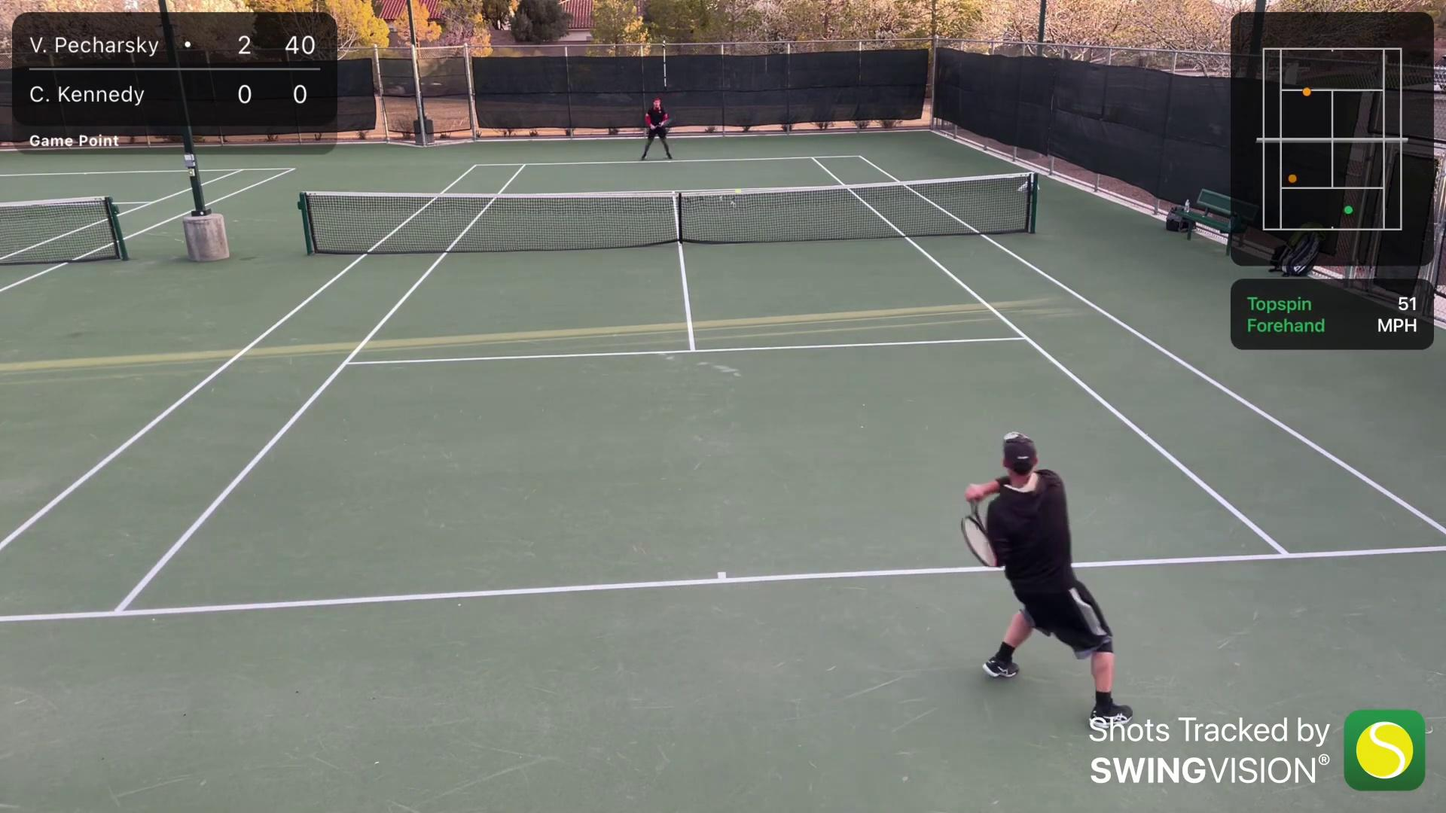ball: (732, 186, 744, 195)
